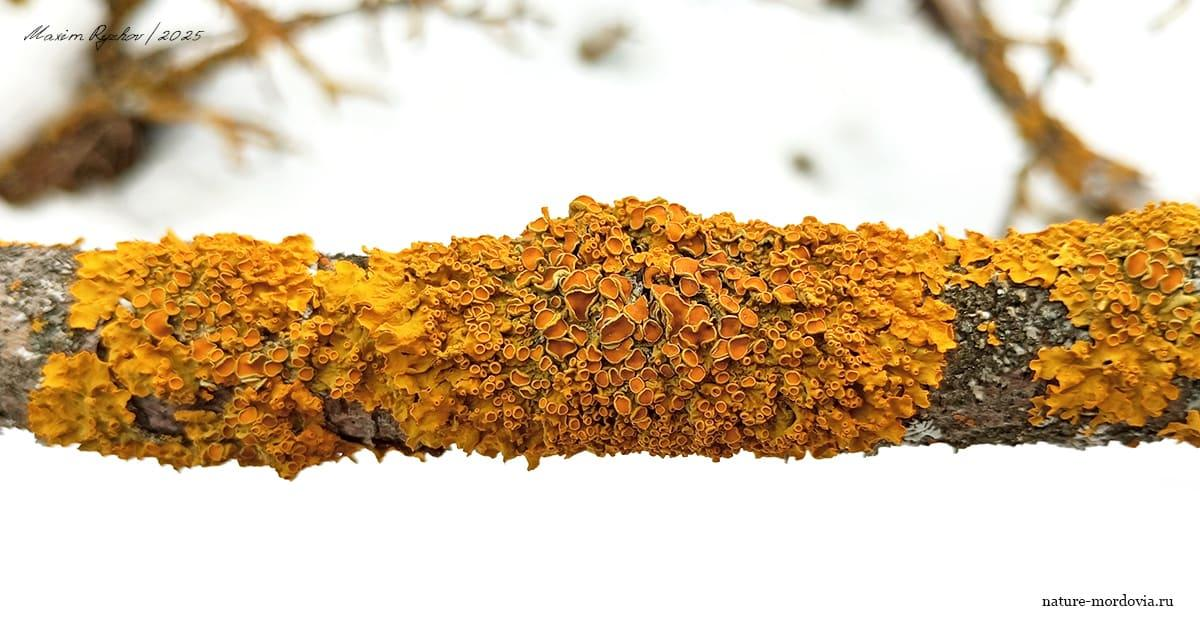lichen: (32, 197, 1199, 479)
